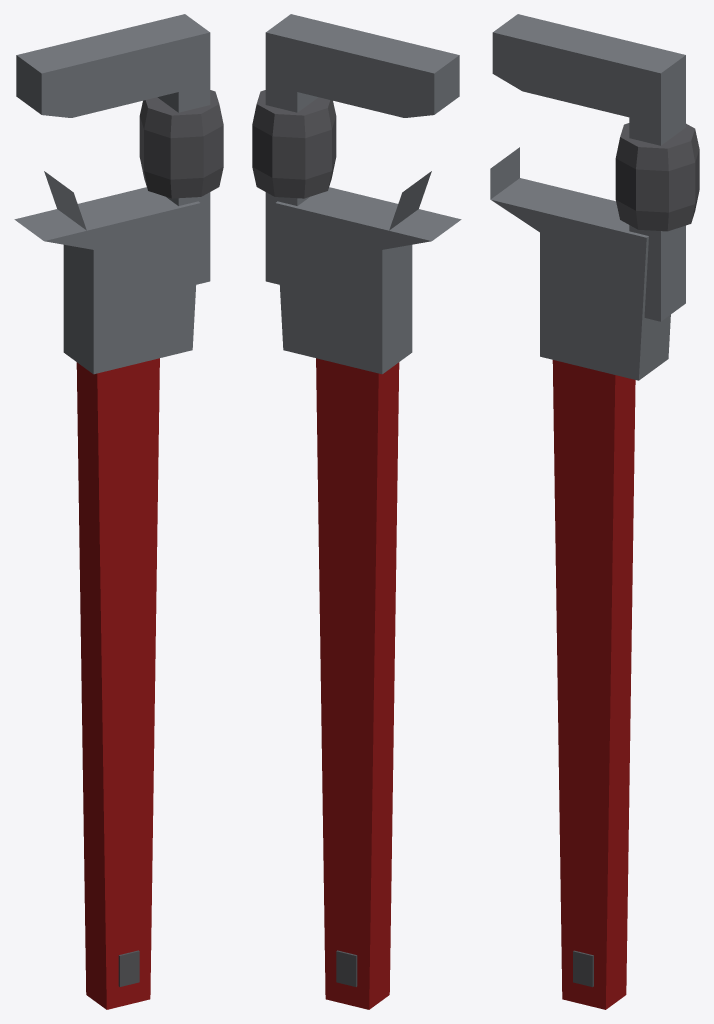
The model's file is wrench.glb.
3 renders of one model, left to right at view 1: azimuth 30°, elevation 25°; view 2: azimuth 150°, elevation 25°; view 3: azimuth 330°, elevation 25°, orthographic.
Visible parts, largest first — view 1: wrench; view 2: wrench; view 3: wrench.
Part boxes in pixels (x1=…): wrench: x1=14, y1=14, x2=223, y2=1009; wrench: x1=252, y1=14, x2=461, y2=1009; wrench: x1=490, y1=14, x2=699, y2=1009.
Size of the model in its own units: 0.096 by 0.46 by 0.038.
